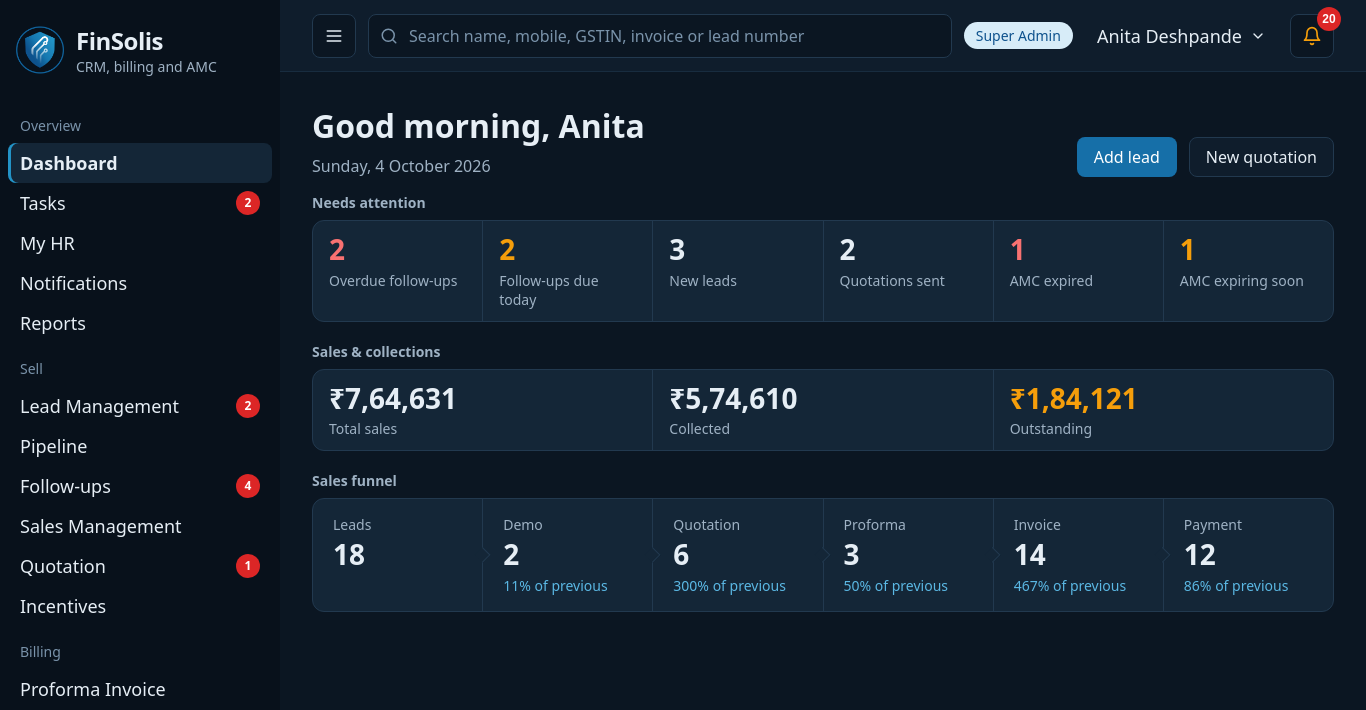
App › shows dashboard figures and jumps to leads from the dashboard
The image size is (1366, 710).
What coordinates should you click on to do the following:
click the button "Dashboard"
I would click on:
 (69, 163)
Its box is [8,143,272,183].
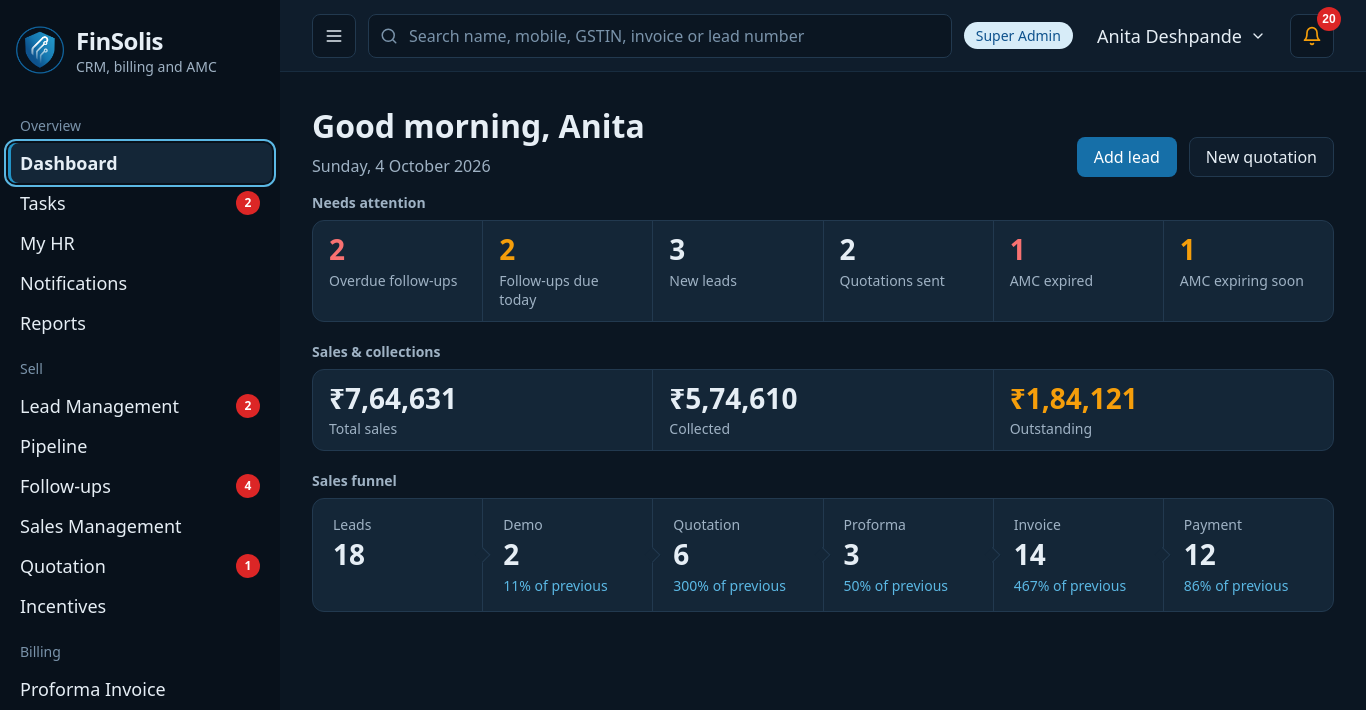
expect the heading "Good morning, Anita" is shown: met, box [312,104,645,147]
expect the text "Overdue follow-ups" is shown: met, box [329,271,466,290]
What coordinates should you click on to do the following:
click the button "Add lead"
I would click on:
 (1127, 157)
Its box is [1077,137,1177,177].
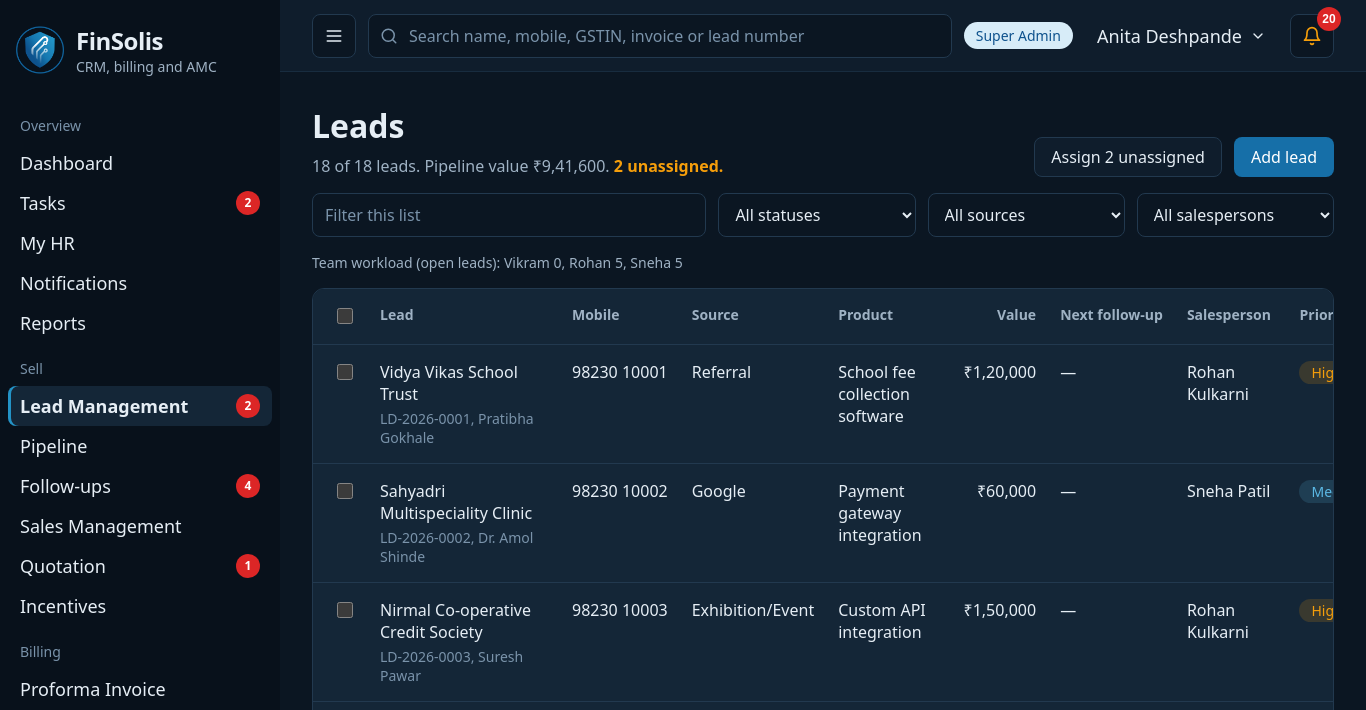
expect the heading "Leads" is shown: met, box [312,104,404,147]
